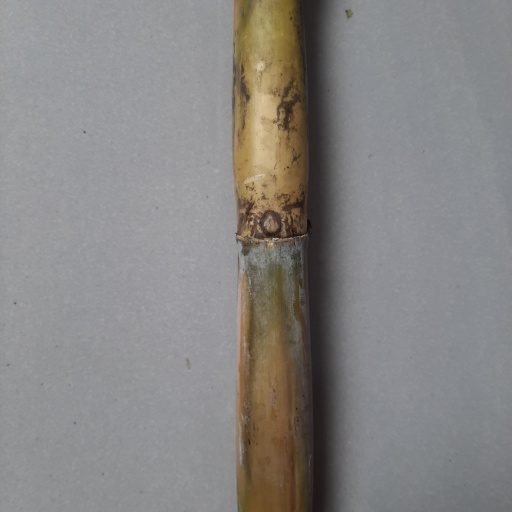Bud: (259, 209, 283, 238)
